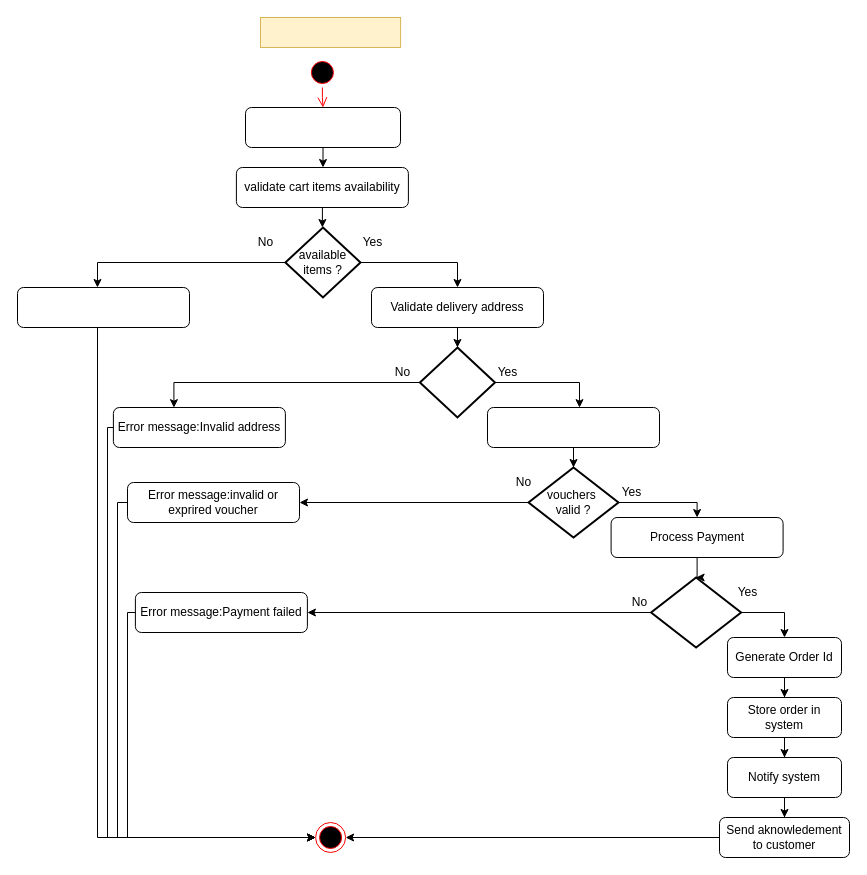
Some shapes in this 867 by 875 pixel diagram are drawn without their labels. Here are the shapes that lost their labels. From the top down, the centre of each, then its label:
At (330,32): "Checkout and place order FlowChart".
At (322,127): "Customer checkout cart".
At (103,307): "Error message:unavilable items".
At (457,382): "valid address?".
At (573,427): "Validate vouchers".
At (696,612): "Payment Approved ?".
